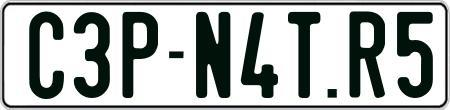3: (71, 11, 111, 97)
4: (240, 11, 279, 100)
5: (395, 11, 436, 99)
C: (28, 9, 63, 102)
N: (194, 12, 233, 98)
P: (122, 11, 161, 101)
R: (347, 11, 385, 100)
T: (287, 12, 323, 103)
